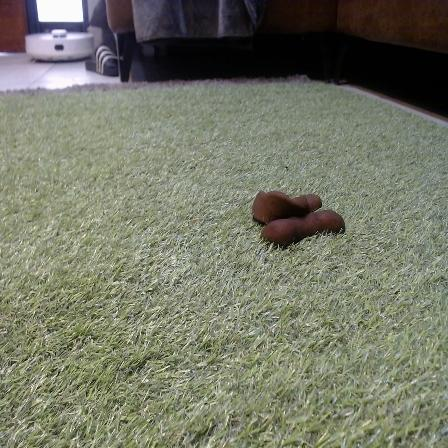dog-poop: (249, 183, 349, 251)
